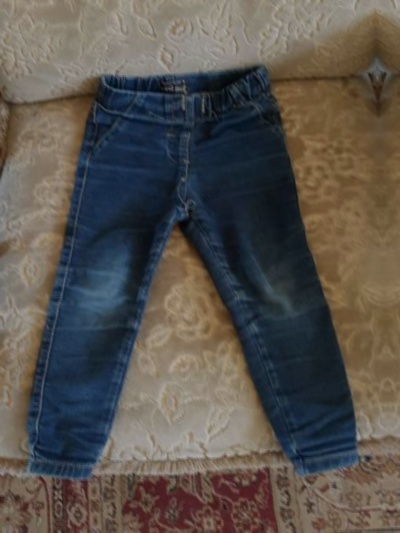Pants: (11, 39, 340, 491)
